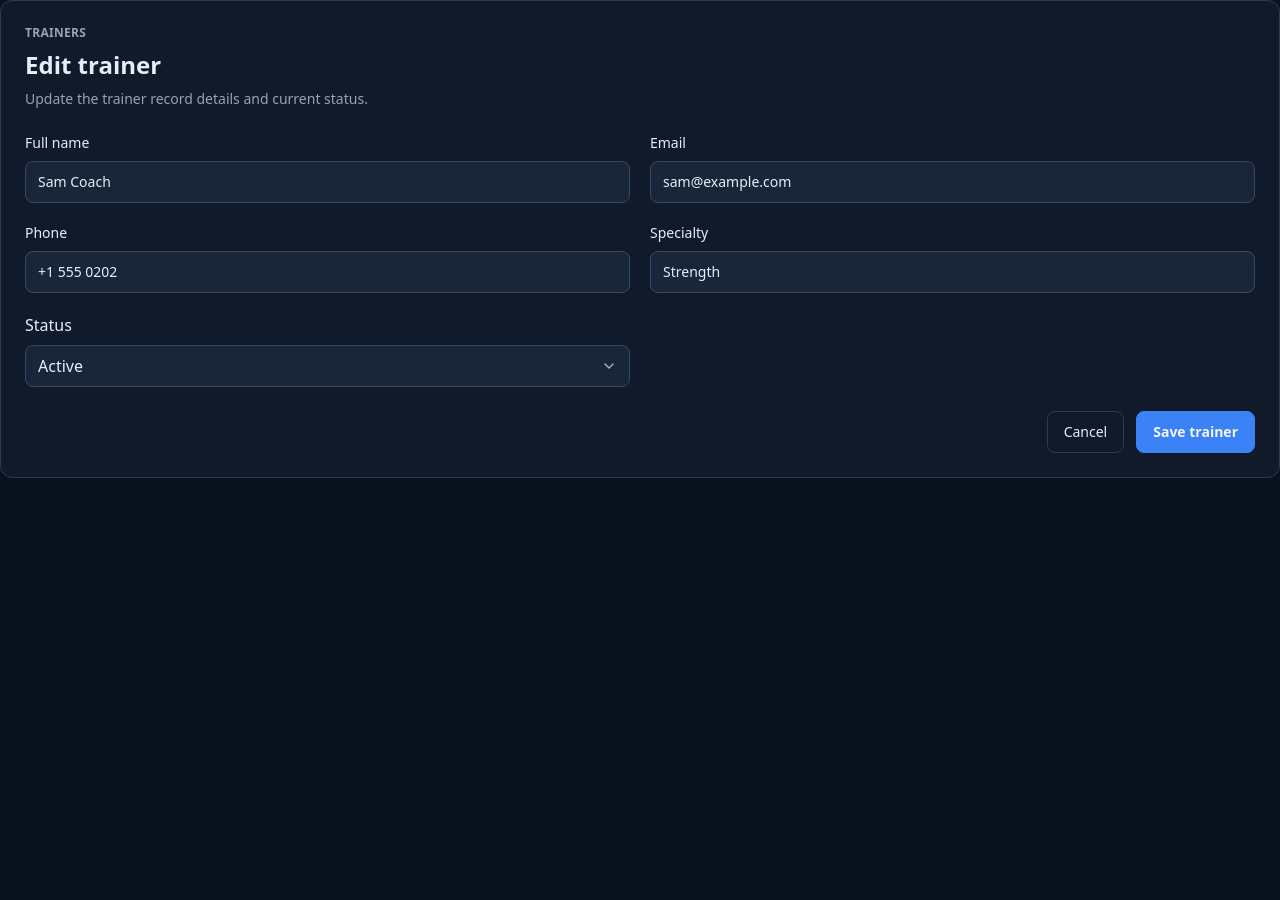
EditTrainerForm › renders validation errors returned by the action
This screenshot has width=1280, height=900.
Click the button "Save trainer" at coordinates (1196, 432), box [1136,411,1255,453]
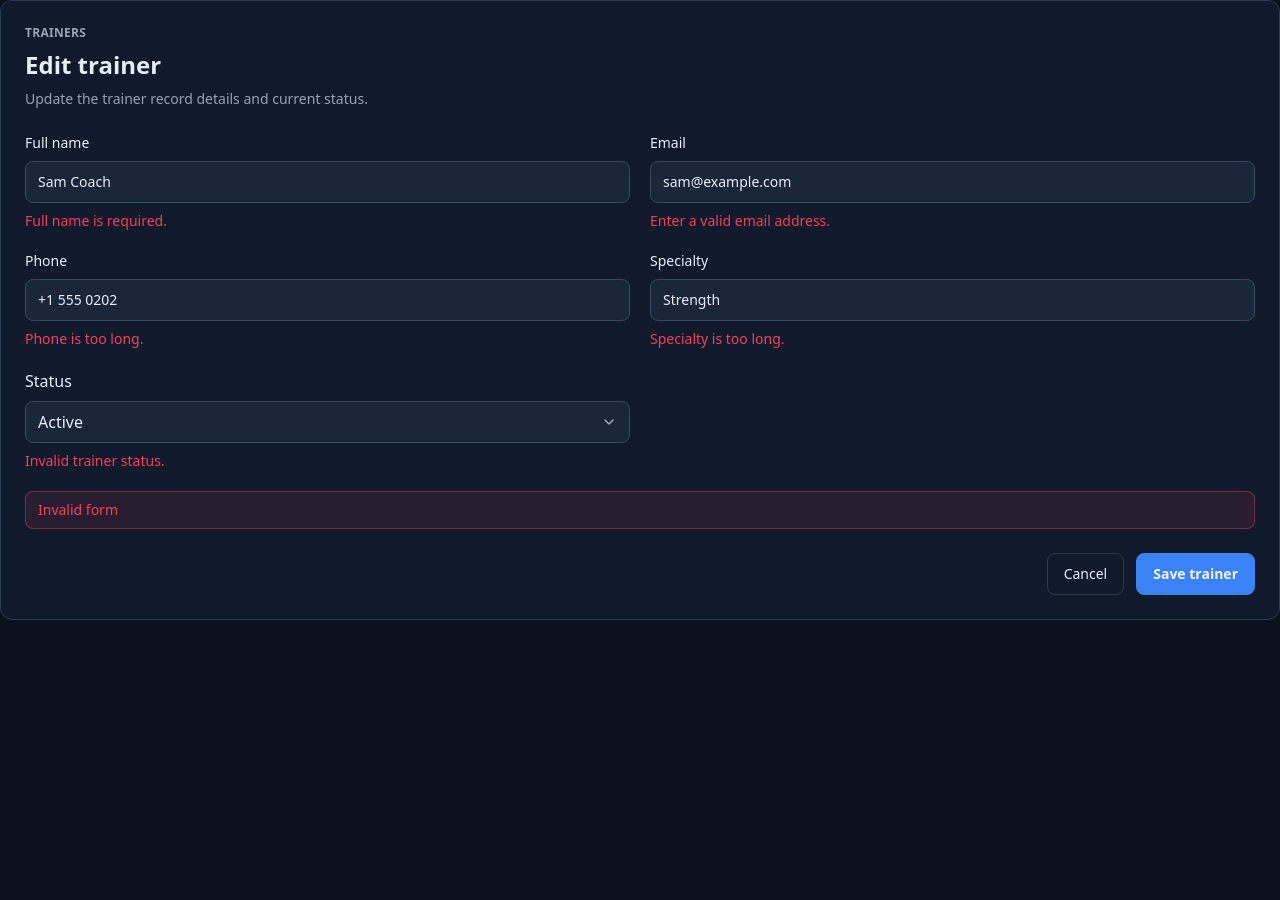
Check: the text "Full name is required." is shown, box [25,211,167,230]
Check: the text "Enter a valid email address." is shown, box [650,211,830,230]
Check: the text "Phone is too long." is shown, box [25,329,144,348]
